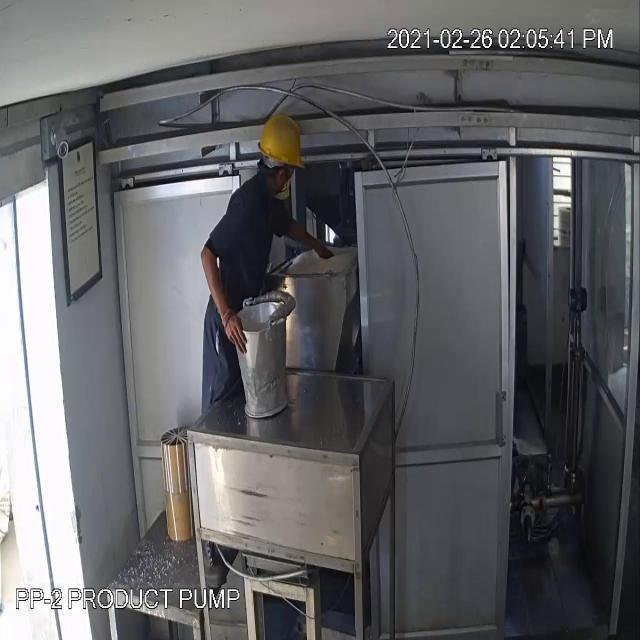hat: (254, 98, 312, 182)
